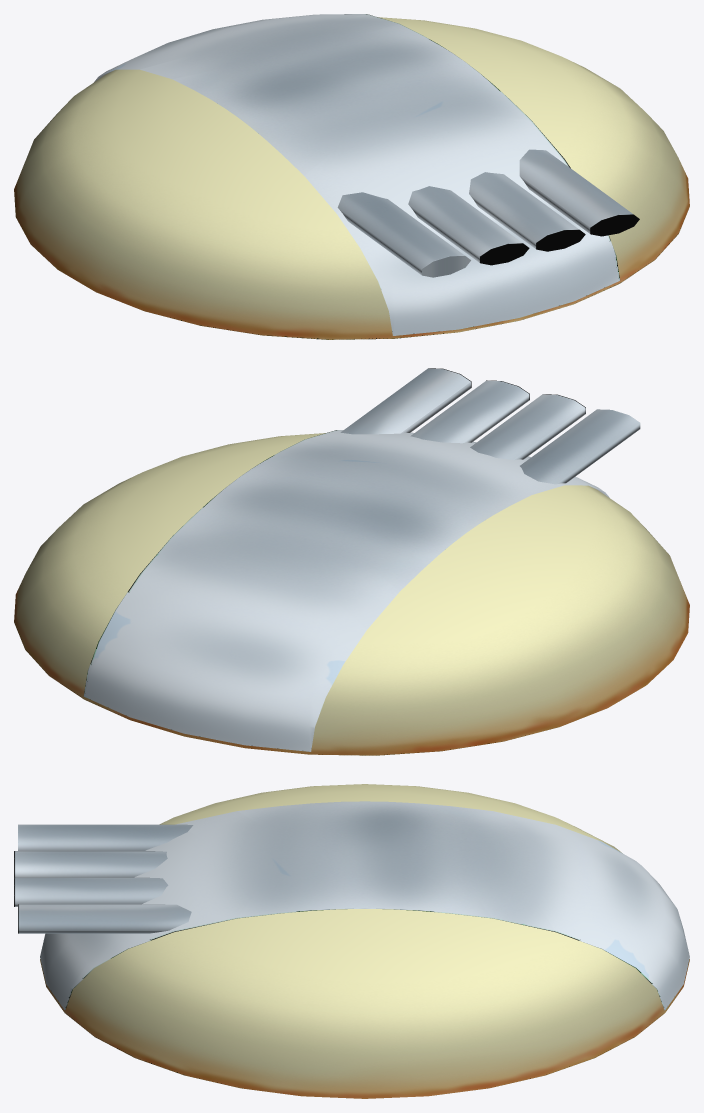
Rendered from Tower_05.FBX.
3 views of the same model, one above another, from view 1: azimuth 30°, elevation 25°; view 2: azimuth 150°, elevation 25°; view 3: azimuth 270°, elevation 25° (orthographic). The views are drawn at different scales.
Visible parts, largest first — view 1: Towerbody; view 2: Towerbody; view 3: Towerbody.
Boxes of the visible parts, x1=… form: Towerbody: x1=14, y1=14, x2=689, y2=339; Towerbody: x1=14, y1=368, x2=689, y2=755; Towerbody: x1=14, y1=784, x2=689, y2=1098.
Size of the model in its own units: 86.76 by 16.52 by 89.07.
